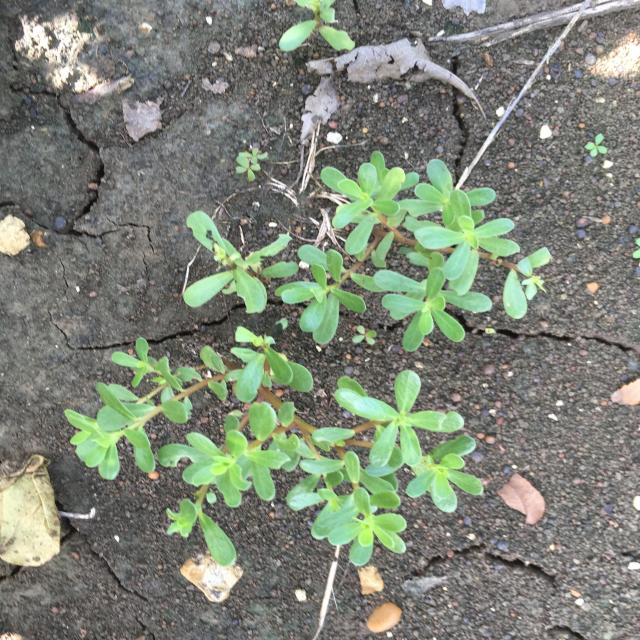Purslane: (64, 318, 483, 566), (275, 151, 553, 352), (183, 211, 299, 314), (279, 0, 355, 51), (236, 148, 268, 182)
